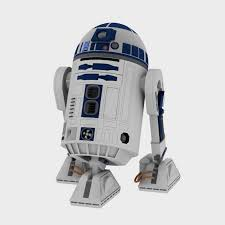r2d2: (52, 22, 180, 207)
